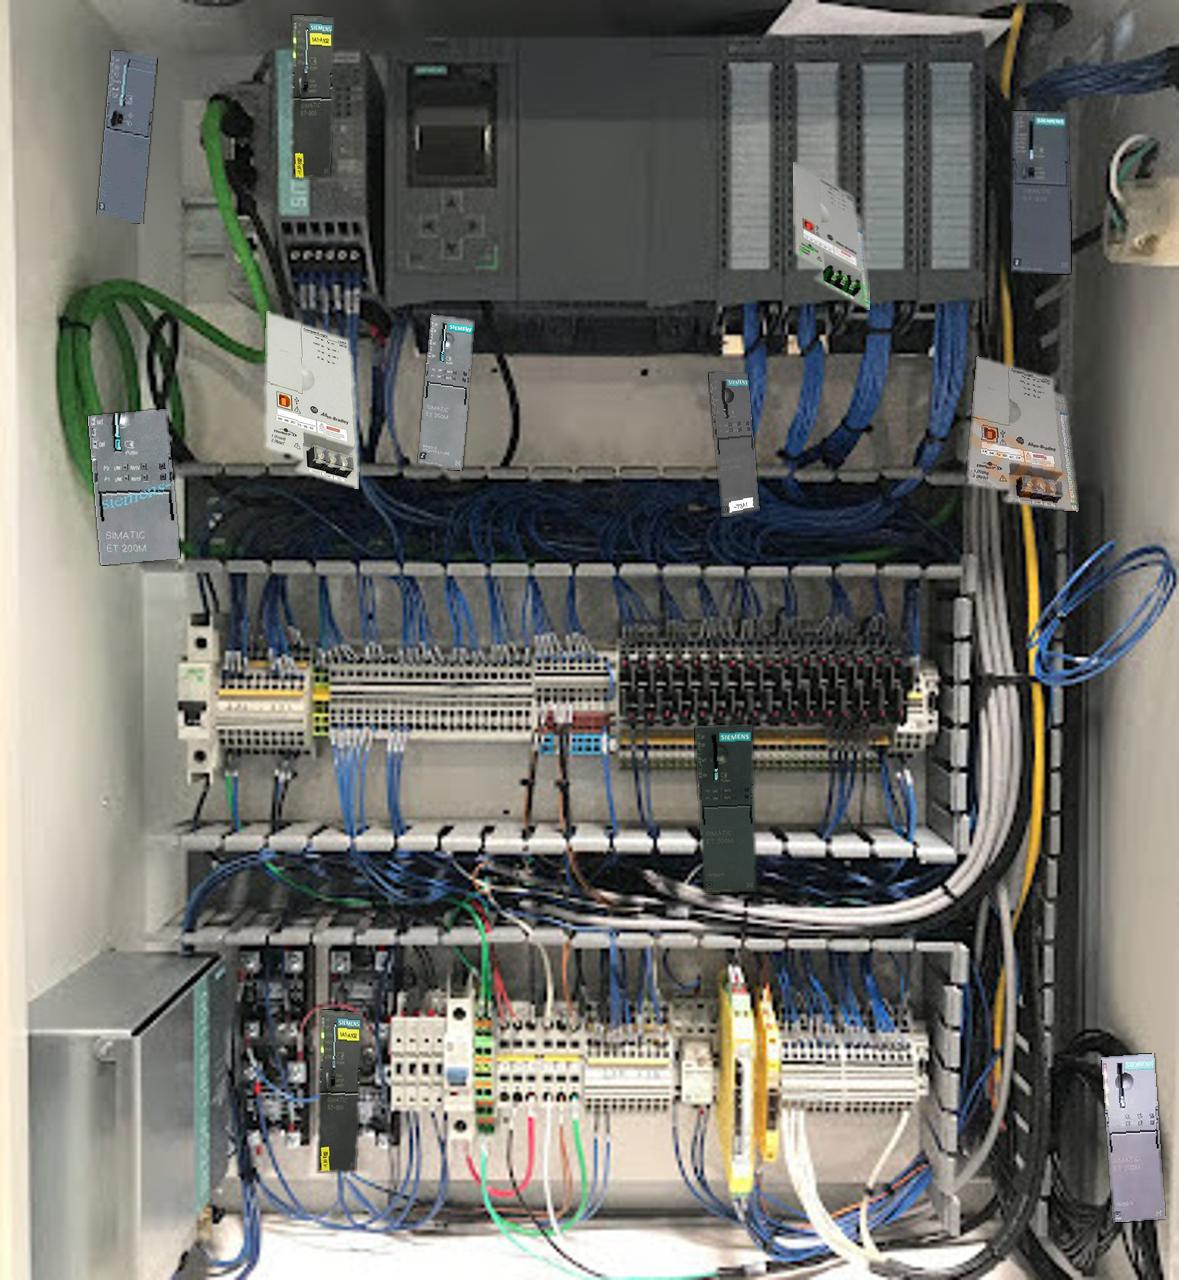AllenBradley: (967, 356, 1077, 511), (265, 311, 358, 488), (793, 162, 869, 309)
Siemens: (97, 50, 156, 223), (1011, 111, 1070, 273), (317, 1010, 361, 1171), (292, 14, 334, 178)
